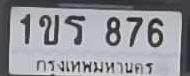1: (20, 12, 30, 43)
6: (147, 17, 162, 47)
7: (125, 16, 142, 46)
8: (105, 16, 120, 45)
A02: (38, 14, 58, 44)
A35: (64, 14, 85, 44)
BKK: (32, 57, 155, 76)
